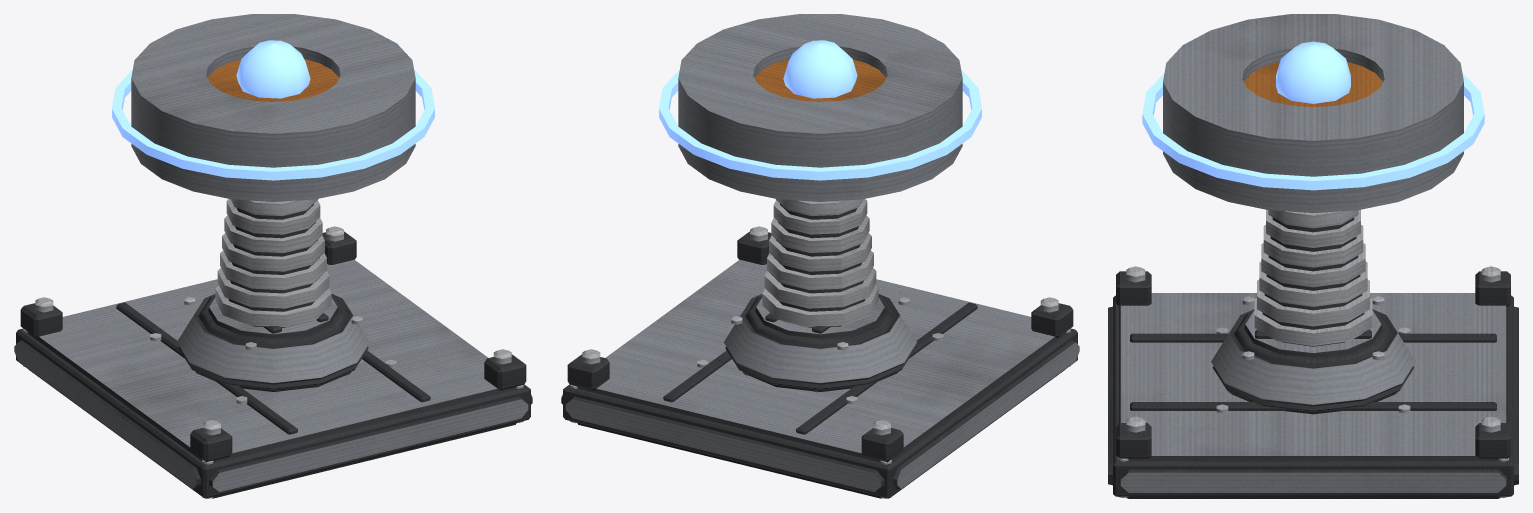
The model's file is R4X_AreaEMP.glb.
3 renders of one model, left to right at view 1: azimuth 30°, elevation 25°; view 2: azimuth 150°, elevation 25°; view 3: azimuth 270°, elevation 25°, orthographic. The views are drawn at different scales.
Visible parts, largest first — view 1: R4X_AreaEMP_Body; view 2: R4X_AreaEMP_Body; view 3: R4X_AreaEMP_Body.
Part boxes in pixels (bbox=[...]): R4X_AreaEMP_Body: bbox=[14, 14, 532, 498]; R4X_AreaEMP_Body: bbox=[561, 14, 1079, 498]; R4X_AreaEMP_Body: bbox=[1108, 14, 1518, 498].
Bounding box in the file's own units: 0.52 × 0.52 × 0.52.
Materials: 5 (4 with a texture image).
